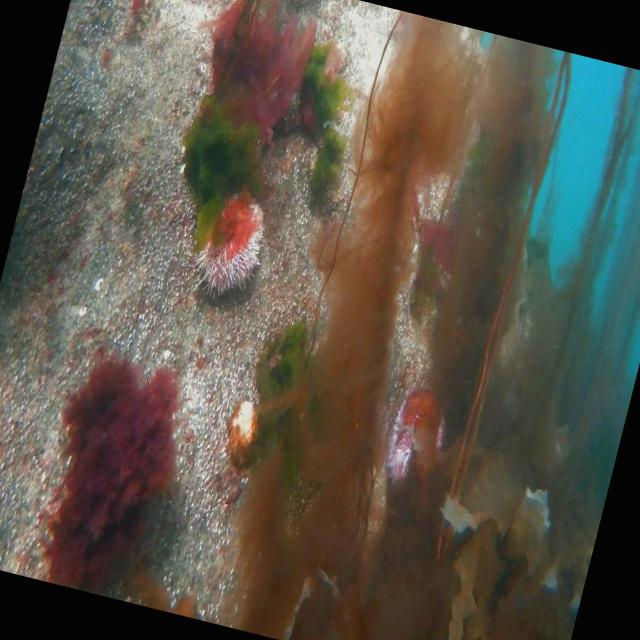Deniz Kestanesi: (186, 176, 277, 308), (379, 385, 454, 495)
